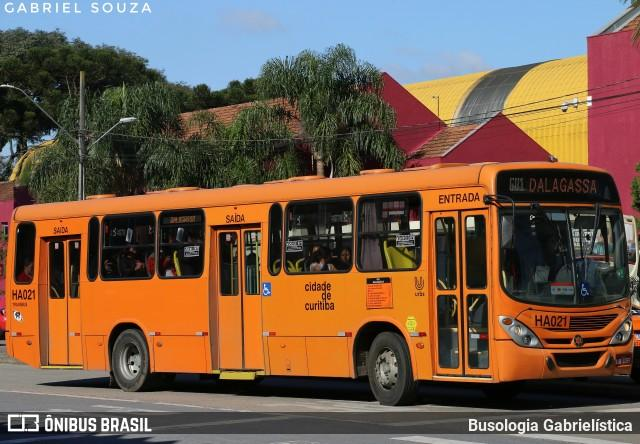DALAGASSA: (525, 174, 601, 199)
